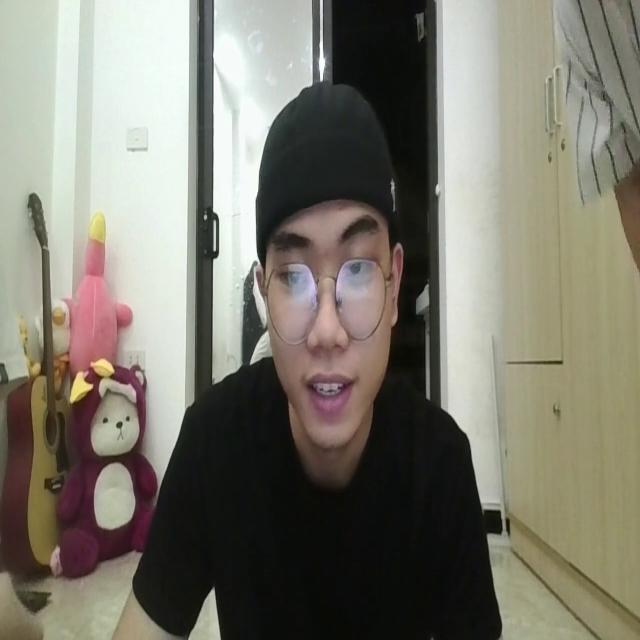student: (119, 77, 498, 640)
